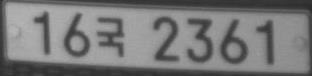1: (255, 20, 279, 64), (33, 11, 56, 54)
2: (153, 16, 179, 60)
3: (188, 17, 212, 62)
6: (220, 18, 249, 64), (63, 12, 90, 58)
국: (97, 16, 124, 56)
